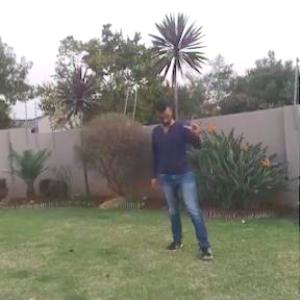land_hand: (180, 110, 202, 138)
